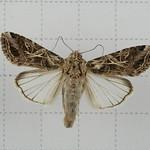Spodoptera litura: (1, 32, 150, 128)
